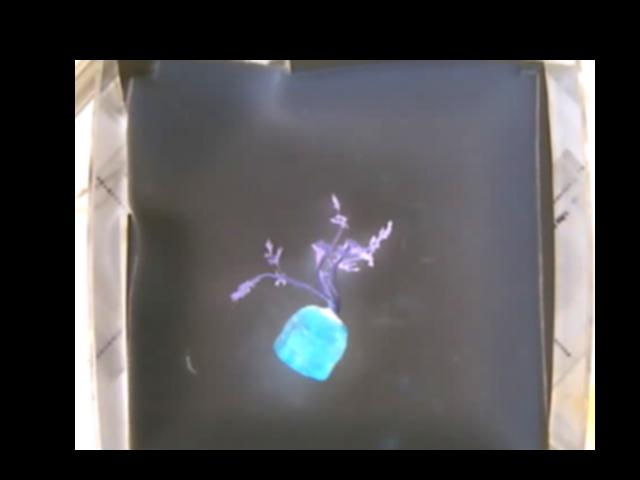Carrot: (230, 194, 392, 380)
